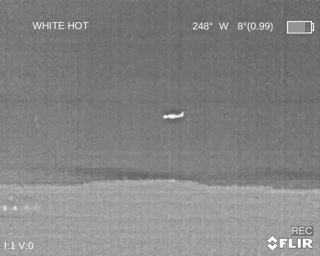AIRPLANE: (162, 111, 184, 120)
